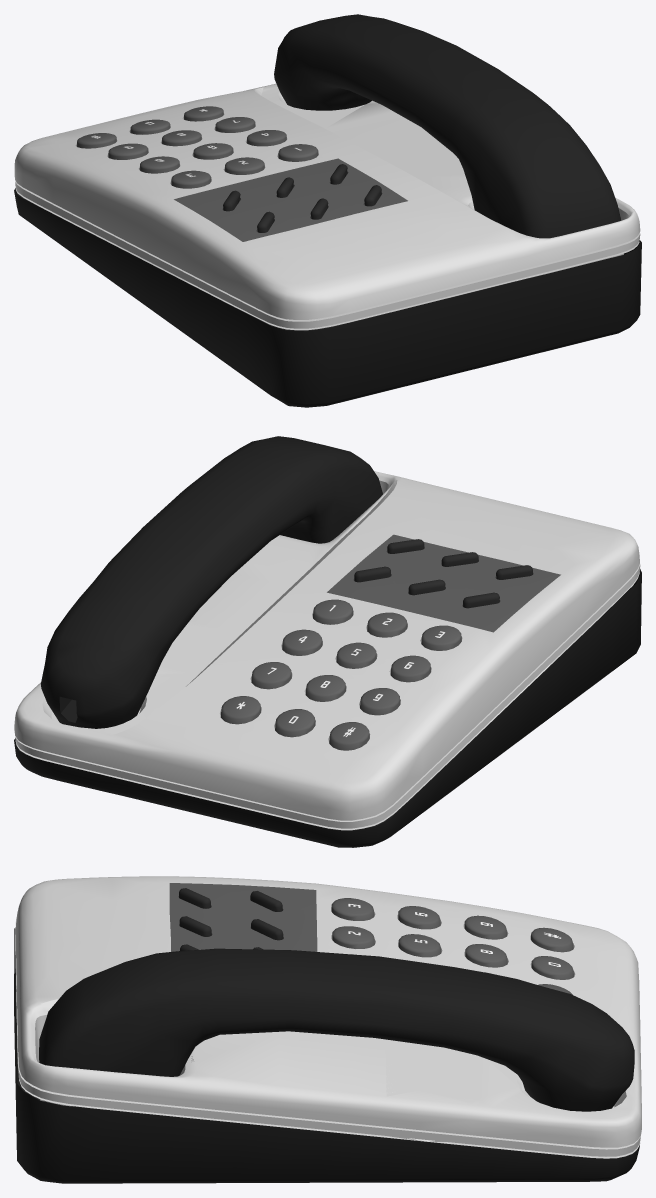
Rendered from TLPNoCable.fbx.
3 renders of one model, top to bottom at view 1: azimuth 30°, elevation 25°; view 2: azimuth 150°, elevation 25°; view 3: azimuth 270°, elevation 25°, orthographic. The views are drawn at different scales.
Parts seen in each view (by area): view 1: Telephone; view 2: Telephone; view 3: Telephone.
Part boxes in pixels (<box>): Telephone: <box>14,14,641,407</box>; Telephone: <box>14,436,641,847</box>; Telephone: <box>14,876,641,1183</box>.
Bounding box in the file's own units: 408 × 196 × 560.
